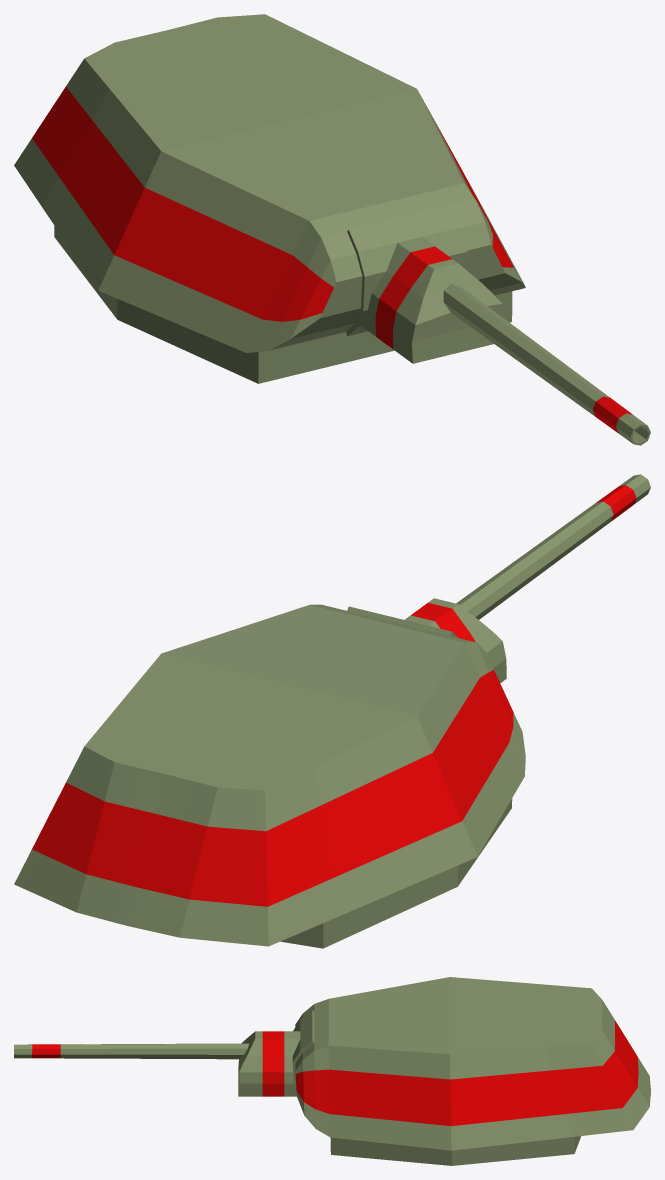
Rendered from T-34 Head.fbx.
The picture shows the model from 3 angles, top to bottom: view 1: azimuth 30°, elevation 25°; view 2: azimuth 150°, elevation 25°; view 3: azimuth 270°, elevation 25°; orthographic projection. The views are drawn at different scales.
Parts seen in each view (by area): view 1: Head; view 2: Head; view 3: Head.
Part boxes in pixels (x1,y1,x2,y2): Head: [14, 14, 650, 445]; Head: [14, 474, 650, 948]; Head: [14, 977, 650, 1165].
Bounding box in the file's own units: 3.36 × 1.38 × 7.88.
